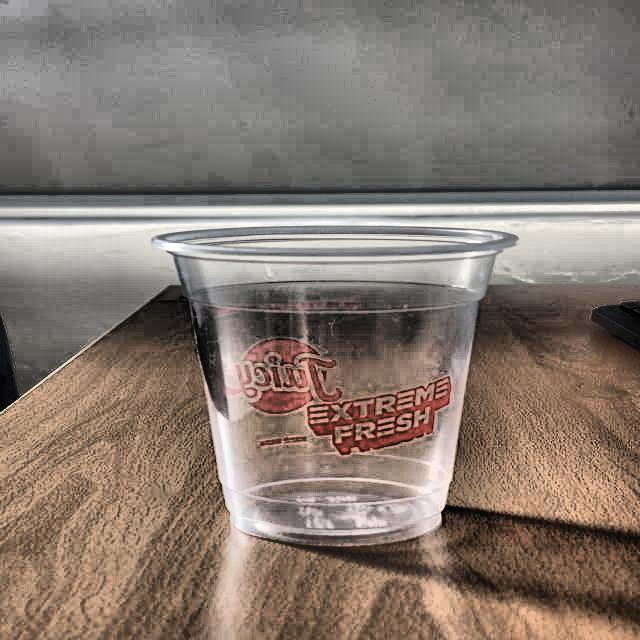plastic cup: (147, 222, 523, 550)
